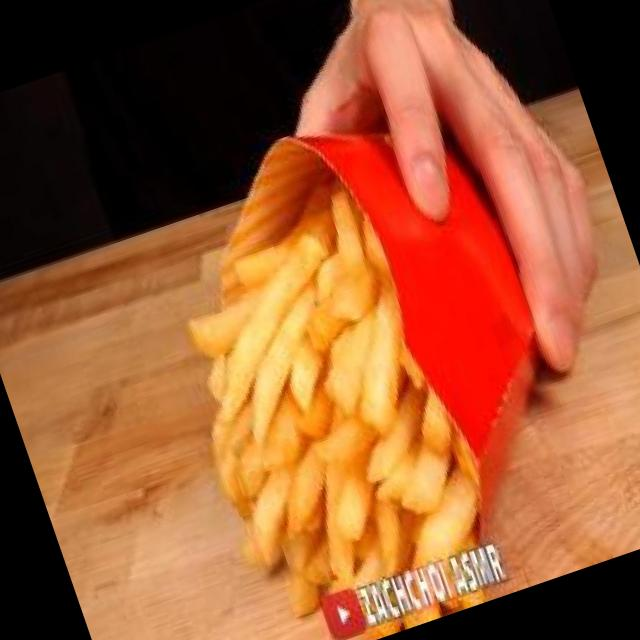french fries: (97, 82, 556, 640)
